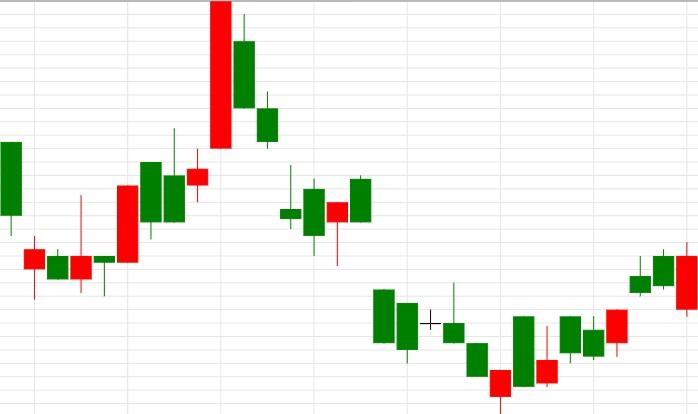inverse_hammer_rise: (1, 142, 92, 299)
